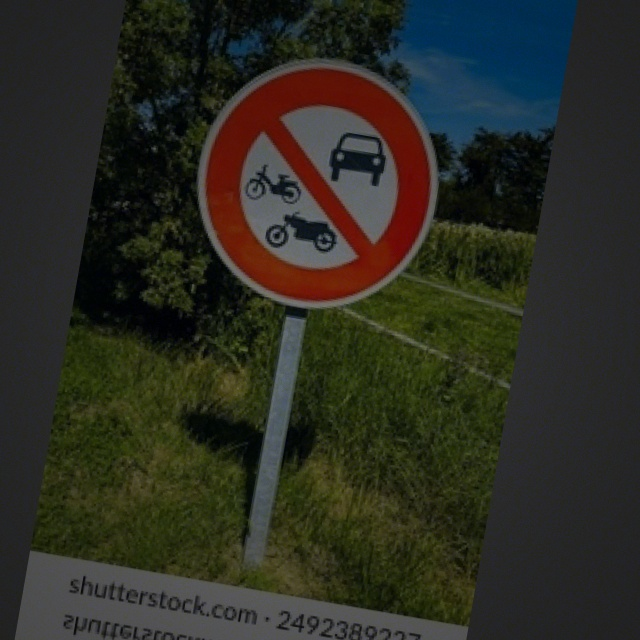All_Motor_Vehicles_Prohibited: (177, 41, 454, 328)
